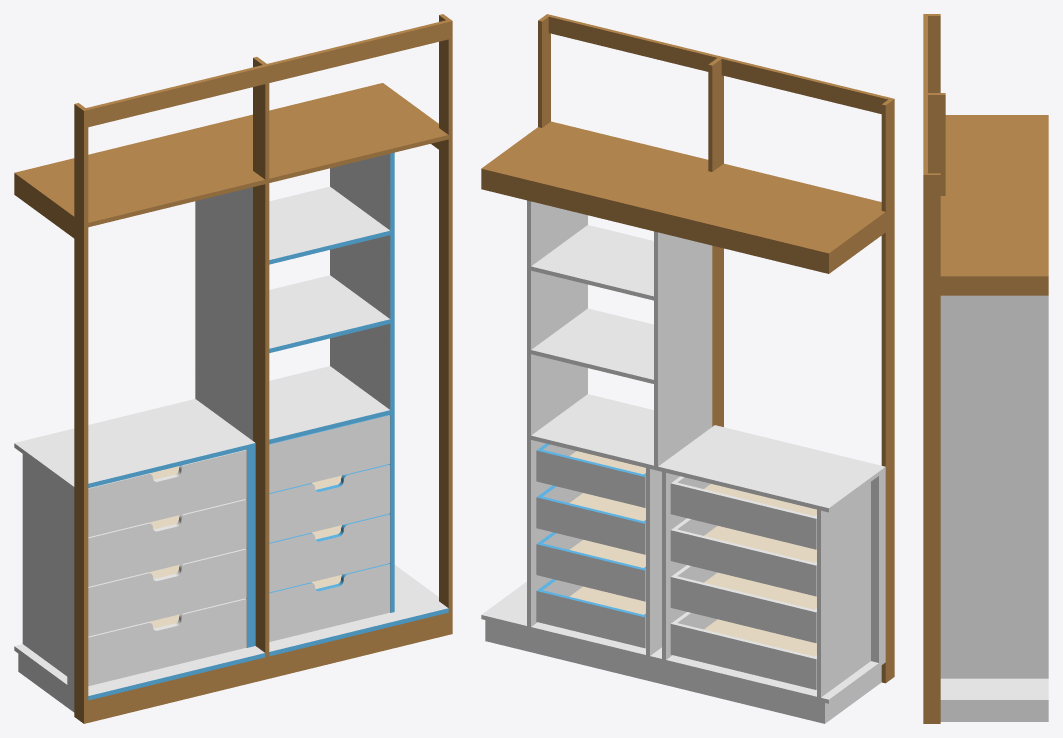
Rendered from Ropero-02.glb.
3 views of the same model, side by side, from view 1: azimuth 30°, elevation 25°; view 2: azimuth 150°, elevation 25°; view 3: azimuth 270°, elevation 25° (orthographic). The views are drawn at different scales.
Parts seen in each view (by area): view 1: DC02-PuertaCajon01 (×4), 728, DC02-PuertaCajon02 (×3), DC02-Techo01, DC02-Separador01, DC02-Repisa01 (×2), DC02-Lateral02, DC02-Lateral01 (×2), 782, 594, 457, 648 (+7 smaller); view 2: 728, DC02-CajonParalelo01 (×4), DC02-Techo01, DC02-Lateral01 (×3), DC02-CajonParalelo02 (×4), DC02-Separador01, DC02-Repisa01 (×2), DC02-Lateral02, DC02-Zocalo02, 594, 487, 947 (+8 smaller); view 3: DC02-Lateral02, 728, 648, DC02-Piso01, DC02-Zocalo01, 918, 782, 594, 487.
Boxes of the visible parts, x1,y1,x2,y2 form: DC02-PuertaCajon01 (×4): (88, 450, 246, 686); 728: (14, 83, 448, 227); DC02-PuertaCajon02 (×3): (269, 464, 389, 641); DC02-Techo01: (14, 366, 390, 490); DC02-Separador01: (195, 187, 252, 440); DC02-Repisa01 (×2): (269, 186, 390, 352); DC02-Lateral02: (330, 152, 394, 612); DC02-Lateral01 (×2): (22, 448, 251, 676); 782: (253, 57, 269, 657); 594: (74, 103, 88, 721); 457: (81, 612, 452, 723); 648: (439, 14, 452, 612); 728: (481, 121, 885, 257); DC02-CajonParalelo01 (×4): (674, 482, 814, 688); DC02-Techo01: (531, 394, 885, 512); DC02-Lateral01 (×3): (646, 468, 870, 697); DC02-CajonParalelo02 (×4): (540, 450, 643, 647); DC02-Separador01: (654, 231, 712, 466); DC02-Repisa01 (×2): (531, 225, 653, 383); DC02-Lateral02: (527, 200, 587, 626); DC02-Zocalo02: (485, 620, 827, 723); 594: (881, 99, 894, 683); 487: (545, 14, 894, 116); 947: (485, 174, 824, 272); DC02-Lateral02: (940, 295, 1048, 678); 728: (940, 115, 1048, 280); 648: (923, 173, 940, 723); DC02-Piso01: (940, 678, 1048, 703); DC02-Zocalo01: (940, 704, 1043, 721); 918: (940, 280, 1048, 295); 782: (928, 93, 945, 195); 594: (928, 14, 940, 92); 487: (923, 14, 927, 190).
Size of the model in its own units: 1.56 by 2.47 by 0.51.
